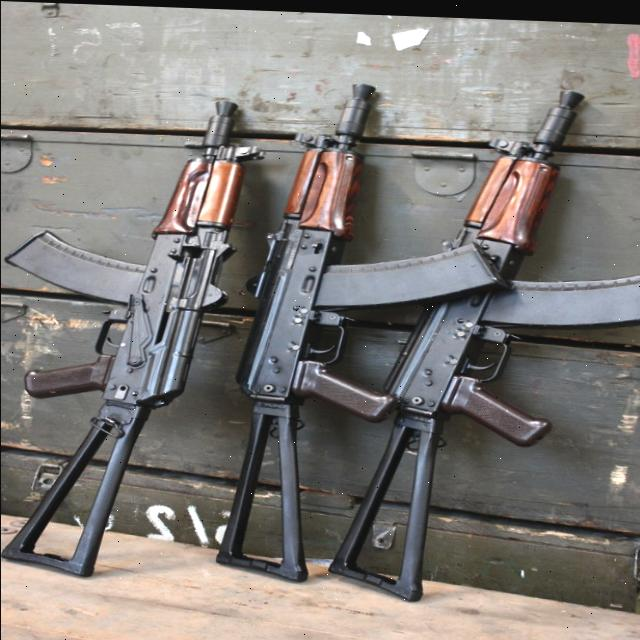firearm: (323, 72, 640, 604), (210, 71, 507, 587), (0, 88, 262, 582)
